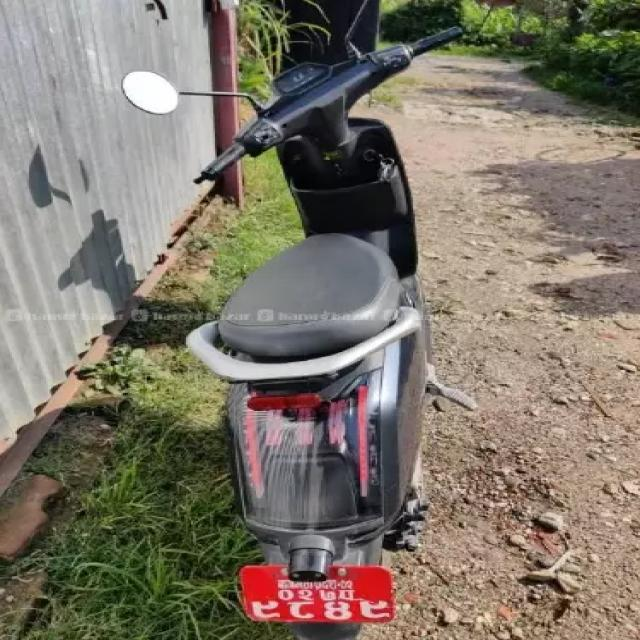License-plate: (239, 563, 400, 631)
